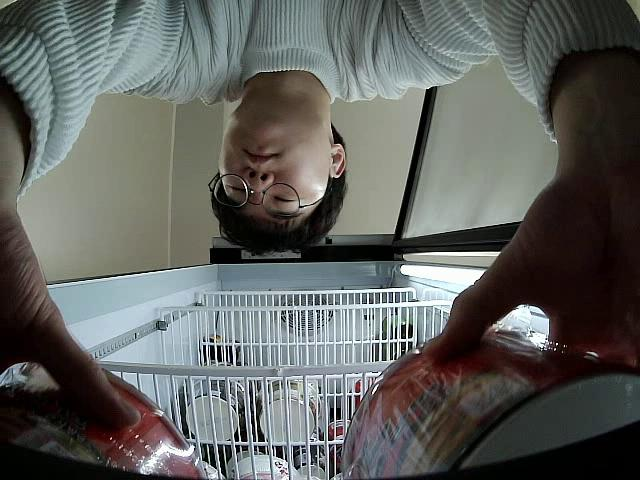00_hand: (421, 159, 640, 363), (0, 198, 139, 428)
01_shinRamen_L: (345, 329, 640, 480), (0, 356, 207, 480)
